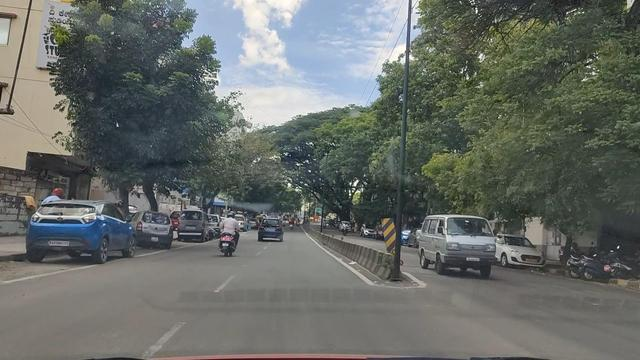LMV: (36, 203, 140, 269), (216, 213, 254, 261)
